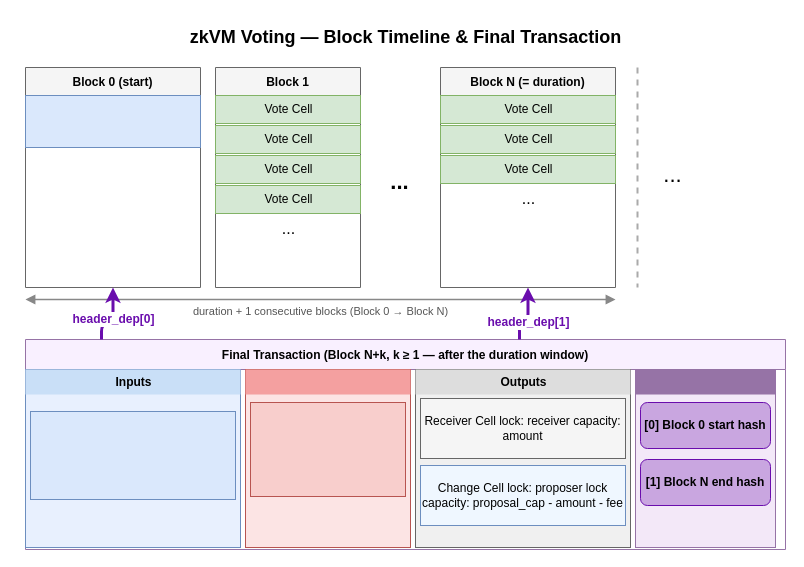
The diagram is 804 pixels wide and 567 high, and some of its shapes have lost their labels. Here are the shapes that lost their labels. From the top down, the centre of each, then its label:
At point 112,121: "Proposal Cell (escrows CKB)".
At point 327,381: "Witnesses".
At point 705,381: "header_deps".
At point 133,455: "Proposal Cell (created in Block 0, escrows CKB ≥ amount)".
At point 328,449: "SP1 Proof".
